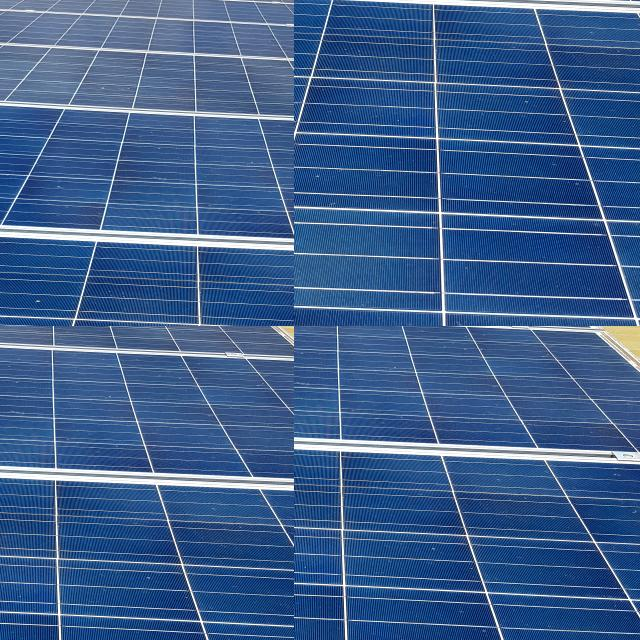bird: (0, 0, 12, 4)
hotspot: (0, 326, 15, 333), (0, 326, 8, 329)
panel: (309, 0, 371, 8), (335, 0, 374, 10), (296, 0, 329, 3), (294, 0, 317, 4), (294, 0, 310, 3), (343, 0, 359, 3)
